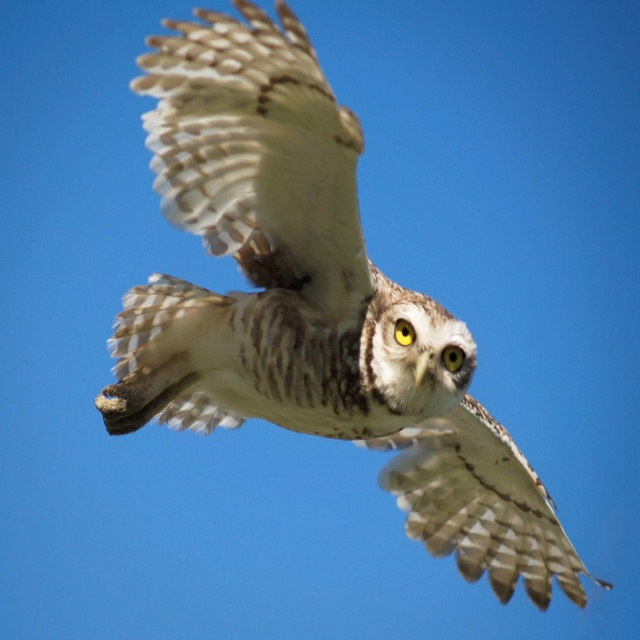Owl: (95, 0, 613, 613)
